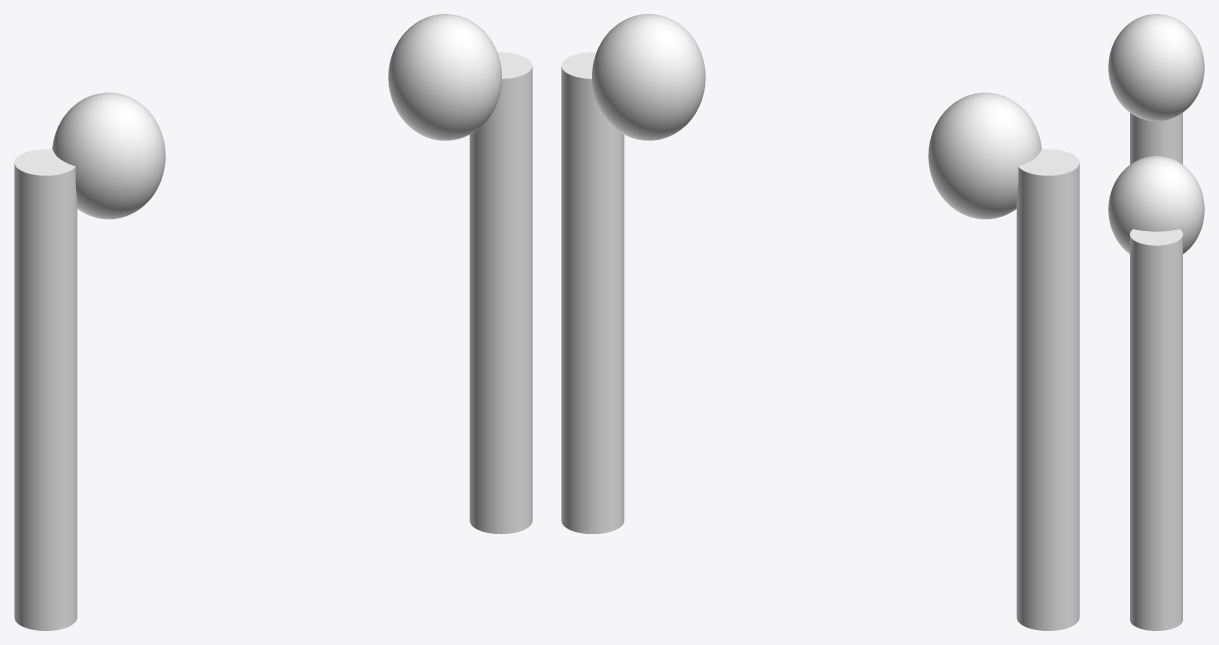
File: kitman abdo.glb
3 renders of one model, left to right at view 1: azimuth 30°, elevation 25°; view 2: azimuth 150°, elevation 25°; view 3: azimuth 270°, elevation 25°, orthographic. The views are drawn at different scales.
Visible parts, largest first — view 1: mesh_id35, mesh_id41, mesh_id33, mesh_id27; view 2: mesh_id35, mesh_id41, mesh_id33, mesh_id27; view 3: mesh_id41, mesh_id27, mesh_id33, mesh_id35.
Boxes of the visible parts, x1,y1,x2,y2 form: mesh_id35: (14,149,77,630); mesh_id41: (469,52,532,533); mesh_id33: (388,14,501,140); mesh_id27: (52,92,165,219); mesh_id35: (1016,149,1079,630); mesh_id41: (561,52,624,533); mesh_id33: (592,14,705,140); mesh_id27: (928,92,1041,219); mesh_id41: (1130,229,1182,630); mesh_id27: (1108,14,1204,121); mesh_id33: (1108,156,1204,253); mesh_id35: (1130,113,1182,164).
Bounding box in the file's own units: 0.145 × 0.1412 × 0.0281.
4 materials, 4 textured.
